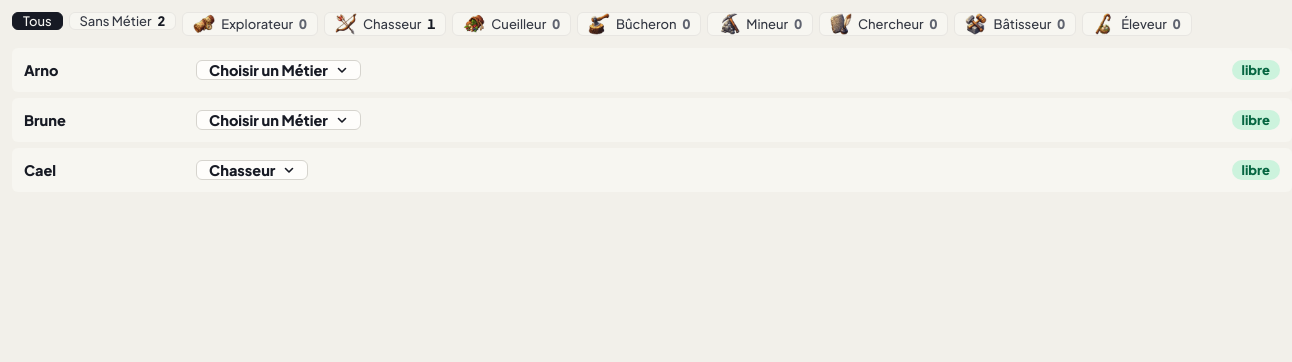
Test case: donner un Métier depuis la ligne d'un Habitant (US-0308) › n'ouvre qu'un dépliant à la fois
Step 1. Click the button "Choisir un Métier" next to "Arno" → point(278, 70), box [196, 60, 361, 80]
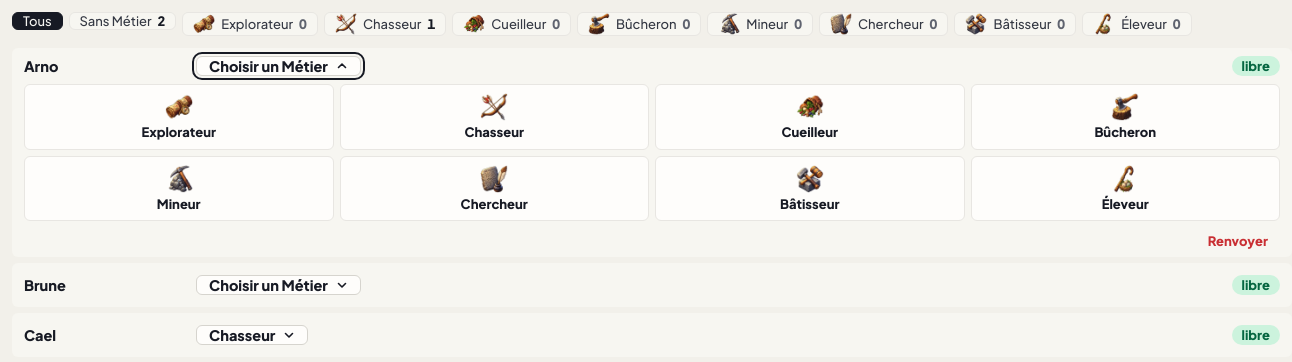
Step 2. Click the button "Choisir un Métier" next to "Brune" → point(278, 285), box [196, 275, 361, 295]
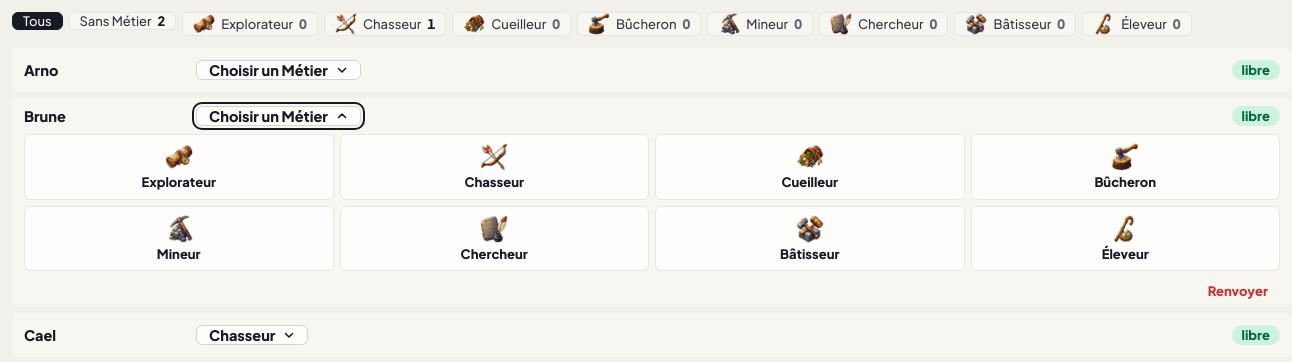
Result: the button "Choisir un Métier" next to "Arno" is collapsed at [196, 60, 361, 80]
